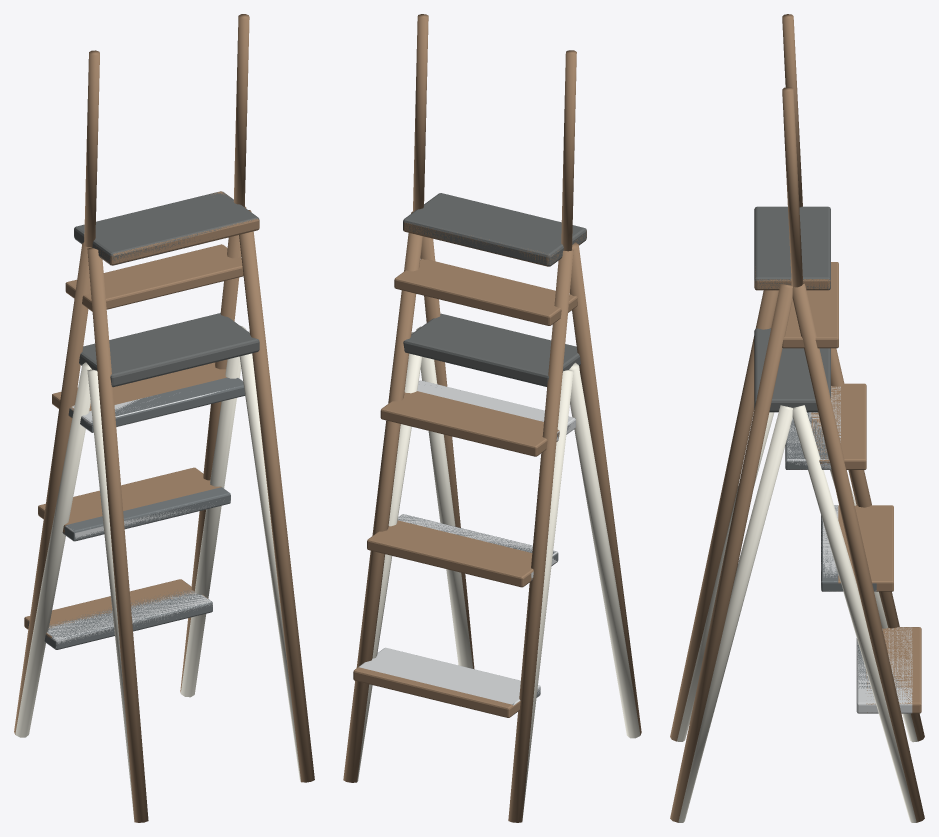
File: Gear03.fbx
The picture shows the model from 3 angles, left to right: view 1: azimuth 30°, elevation 25°; view 2: azimuth 150°, elevation 25°; view 3: azimuth 270°, elevation 25°; orthographic projection.
Parts seen in each view (by area): view 1: Gear03_V10_Walnut, Gear03_V1_Ivory, Gear03_V1_Charcoal, Gear03_V1_Rubber, Gear03_V5_Rubber, Gear03_V3_BrushedSteel; view 2: Gear03_V10_Walnut, Gear03_V1_Ivory, Gear03_V5_Rubber, Gear03_V3_BrushedSteel, Gear03_V1_Rubber, Gear03_V1_Charcoal; view 3: Gear03_V10_Walnut, Gear03_V1_Ivory, Gear03_V5_Rubber, Gear03_V3_BrushedSteel, Gear03_V1_Rubber, Gear03_V1_Charcoal.
Part boxes in pixels (x1,y1,x2,y2): Gear03_V10_Walnut: (14, 14, 314, 822); Gear03_V1_Ivory: (15, 326, 300, 819); Gear03_V1_Charcoal: (28, 377, 245, 649); Gear03_V1_Rubber: (79, 313, 259, 387); Gear03_V5_Rubber: (74, 191, 259, 265); Gear03_V3_BrushedSteel: (47, 377, 243, 649); Gear03_V10_Walnut: (343, 14, 641, 822); Gear03_V1_Ivory: (357, 326, 640, 820); Gear03_V5_Rubber: (403, 193, 586, 266); Gear03_V3_BrushedSteel: (358, 380, 575, 705); Gear03_V1_Rubber: (403, 313, 580, 386); Gear03_V1_Charcoal: (397, 380, 575, 714); Gear03_V10_Walnut: (670, 14, 924, 822); Gear03_V1_Ivory: (677, 405, 917, 822); Gear03_V5_Rubber: (754, 206, 830, 289); Gear03_V3_BrushedSteel: (785, 386, 912, 713); Gear03_V1_Rubber: (754, 328, 830, 412); Gear03_V1_Charcoal: (785, 412, 900, 704).
Size of the model in its own units: 43.19 by 167 by 53.13.
